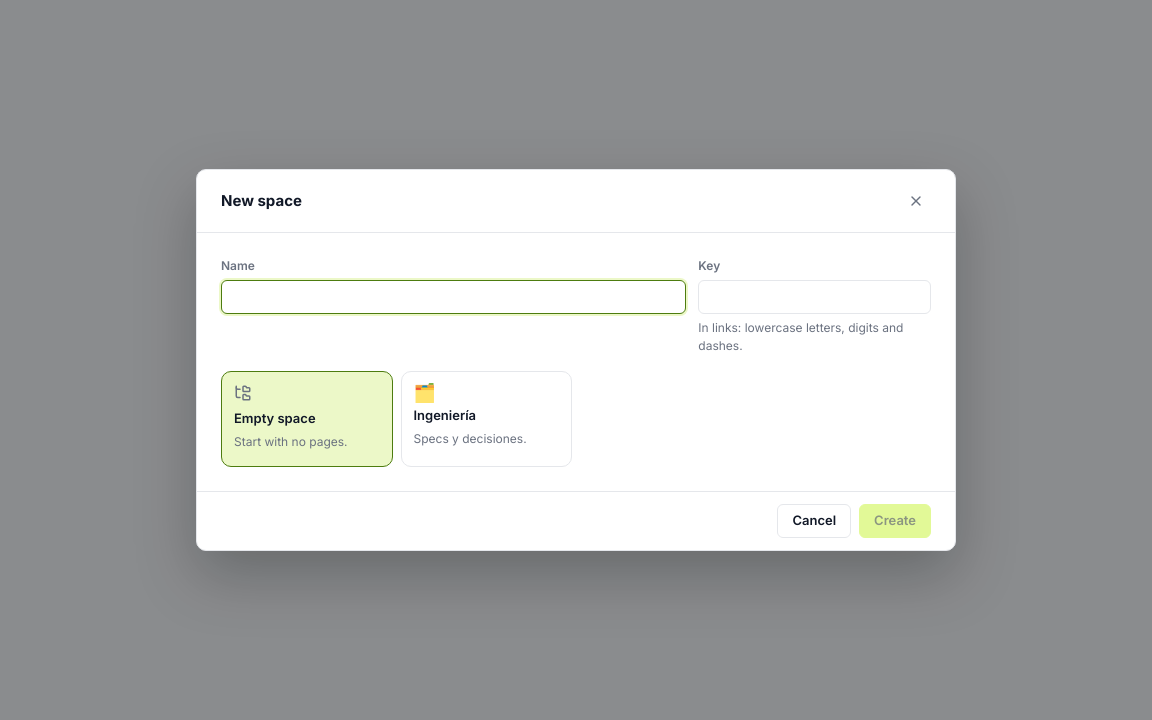
NewSpaceDialog › creates an empty space and shows why the API refused it
This screenshot has width=1152, height=720.
Type "Docs" into the field labelled "Name" at coordinates (454, 297), box [221,280,686,314]
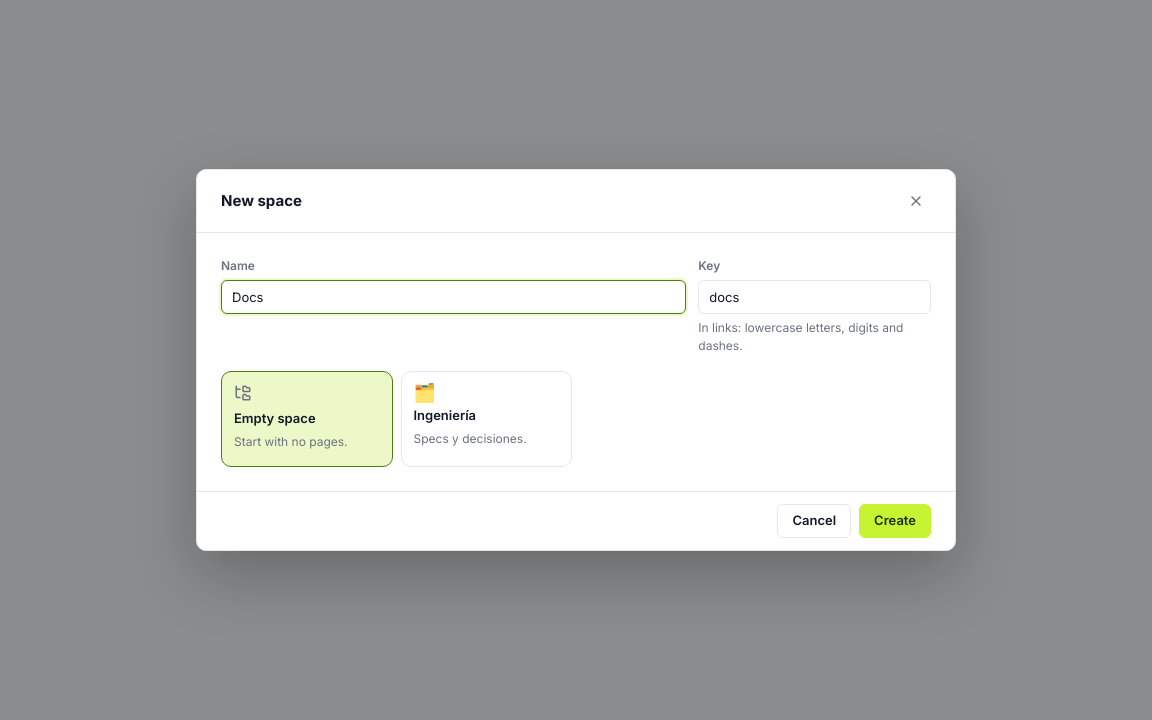
Click the button "Create" at coordinates (895, 521), box [859,504,931,538]
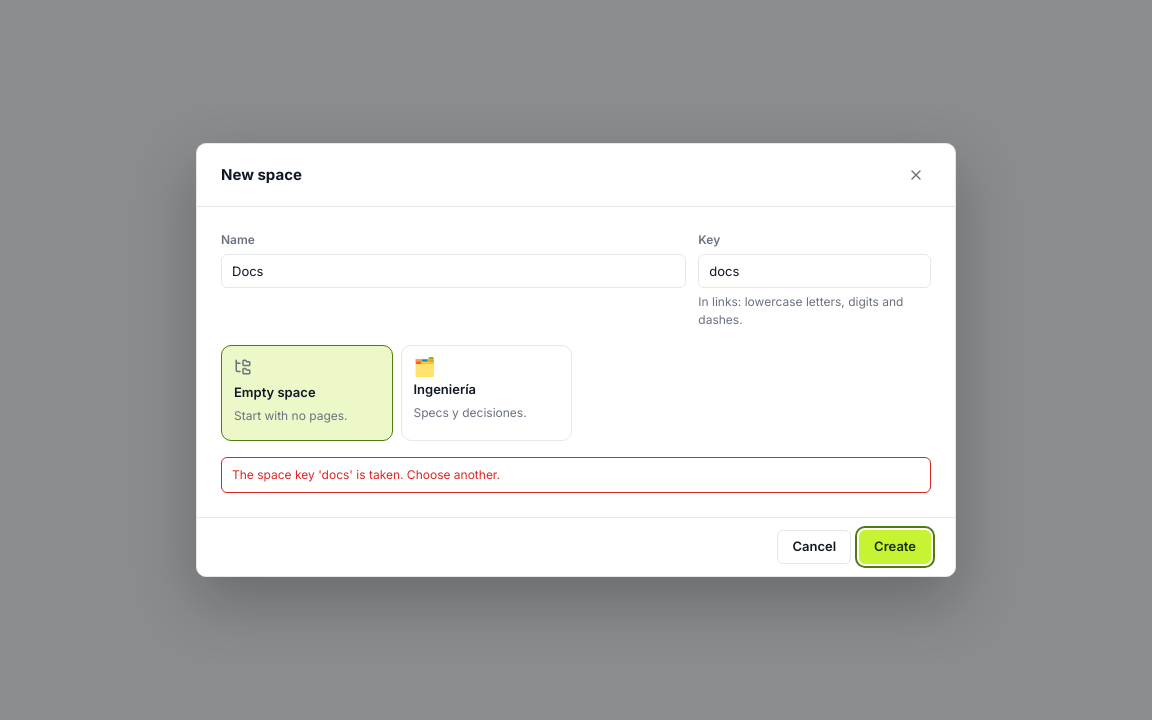
Expected: the message shows "The space key 'docs' is taken.", [232,467,500,482]
